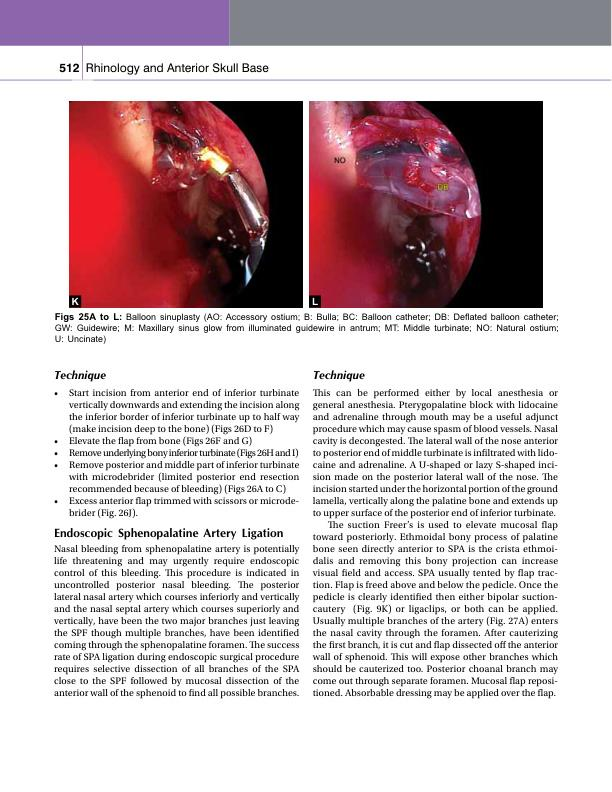caption: (54, 311, 558, 343), (71, 296, 80, 307), (311, 296, 320, 307)
header: (84, 61, 270, 76)
image: (69, 100, 304, 309), (309, 100, 543, 308)
section-heading: (54, 527, 285, 541)
sub-section-heading: (312, 369, 366, 383), (54, 369, 107, 383)
text: (312, 387, 558, 700), (53, 543, 300, 700), (52, 387, 300, 520)
